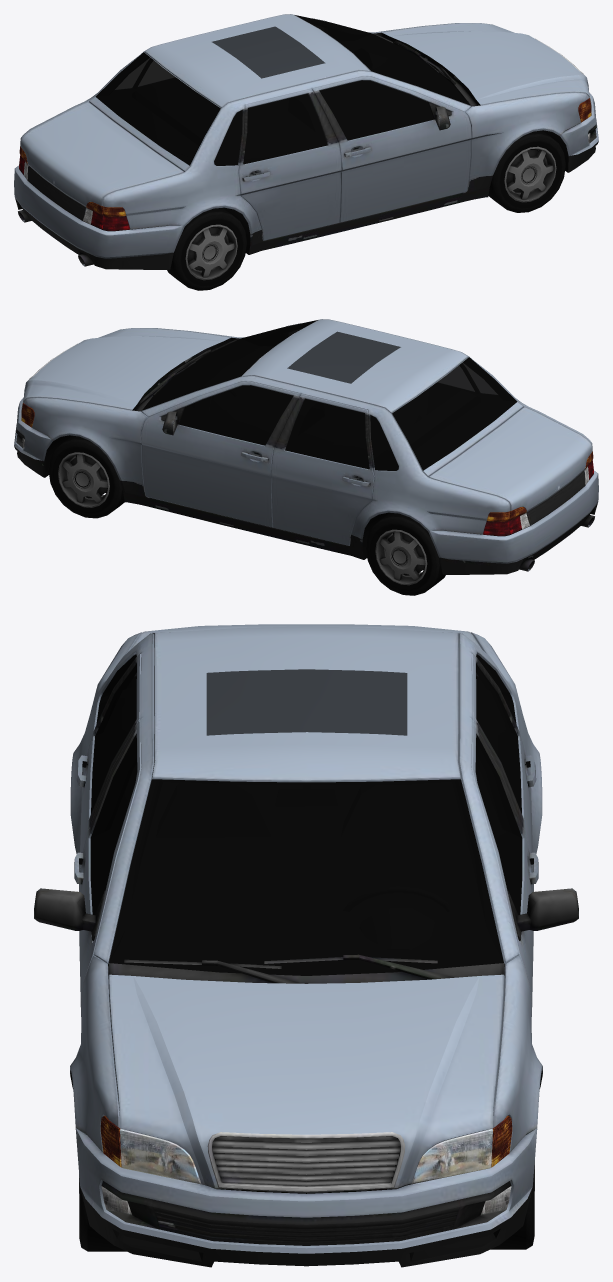
The model's file is carro.glb.
The picture shows the model from 3 angles, top to bottom: view 1: azimuth 30°, elevation 25°; view 2: azimuth 150°, elevation 25°; view 3: azimuth 270°, elevation 25°; orthographic projection. The views are drawn at different scales.
Parts seen in each view (by area): view 1: carroceria, vigia, vidros-traseiros, roda.003, roda.002, vidros-dianteiros, parabrisa, teto, oticas; view 2: carroceria, vigia, vidros-traseiros, roda.001, roda, vidros-dianteiros, parabrisa, teto, oticas; view 3: carroceria, parabrisa, teto, oticas, vidros-dianteiros, vidros-traseiros, roda.002, roda.
Boxes of the visible parts, x1,y1,x2,y2 form: carroceria: [14, 14, 598, 269]; vigia: [95, 52, 220, 165]; vidros-traseiros: [115, 58, 327, 165]; roda.003: [167, 208, 246, 290]; roda.002: [488, 130, 565, 212]; vidros-dianteiros: [312, 24, 433, 140]; parabrisa: [295, 15, 470, 105]; teto: [212, 26, 325, 78]; oticas: [19, 96, 591, 231]; carroceria: [14, 319, 598, 574]; vigia: [392, 357, 517, 470]; vidros-traseiros: [285, 363, 497, 470]; roda.001: [366, 513, 445, 595]; roda: [48, 436, 124, 518]; vidros-dianteiros: [179, 329, 300, 445]; parabrisa: [142, 320, 317, 410]; teto: [287, 331, 400, 383]; oticas: [21, 401, 593, 536]; carroceria: [34, 624, 578, 1267]; parabrisa: [109, 779, 503, 975]; teto: [206, 669, 407, 735]; oticas: [100, 1115, 512, 1215]; vidros-dianteiros: [90, 733, 522, 914]; vidros-traseiros: [91, 654, 521, 813]; roda.002: [79, 1174, 126, 1251]; roda: [490, 1161, 534, 1249].
Bounding box in the file's own units: 4.36 × 1.35 × 1.94.
Materials: 4 (3 with a texture image).
